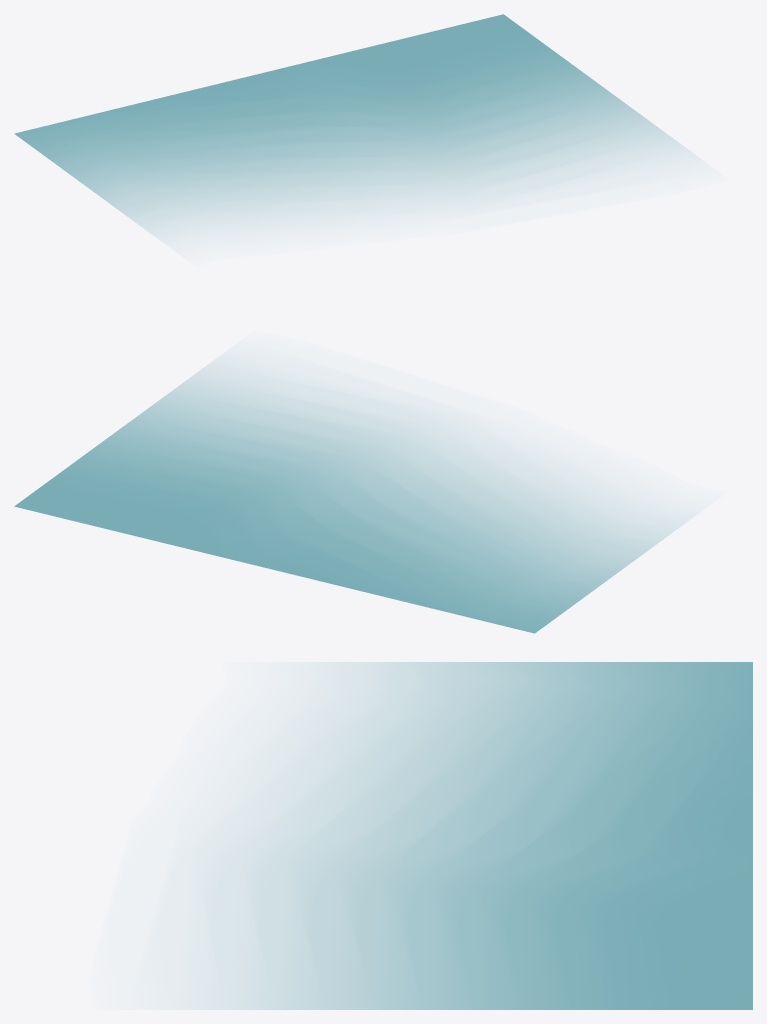
The picture shows the model from 3 angles, top to bottom: view 1: azimuth 30°, elevation 25°; view 2: azimuth 150°, elevation 25°; view 3: azimuth 270°, elevation 25°; orthographic projection. The views are drawn at different scales.
Parts seen in each view (by area): view 1: city; view 2: city; view 3: city.
Boxes of the visible parts, bbox=[...] form: city: bbox=[14, 14, 695, 241]; city: bbox=[14, 357, 690, 633]; city: bbox=[191, 662, 752, 1009].
Size of the model in its own units: 500 by 0 by 449.
